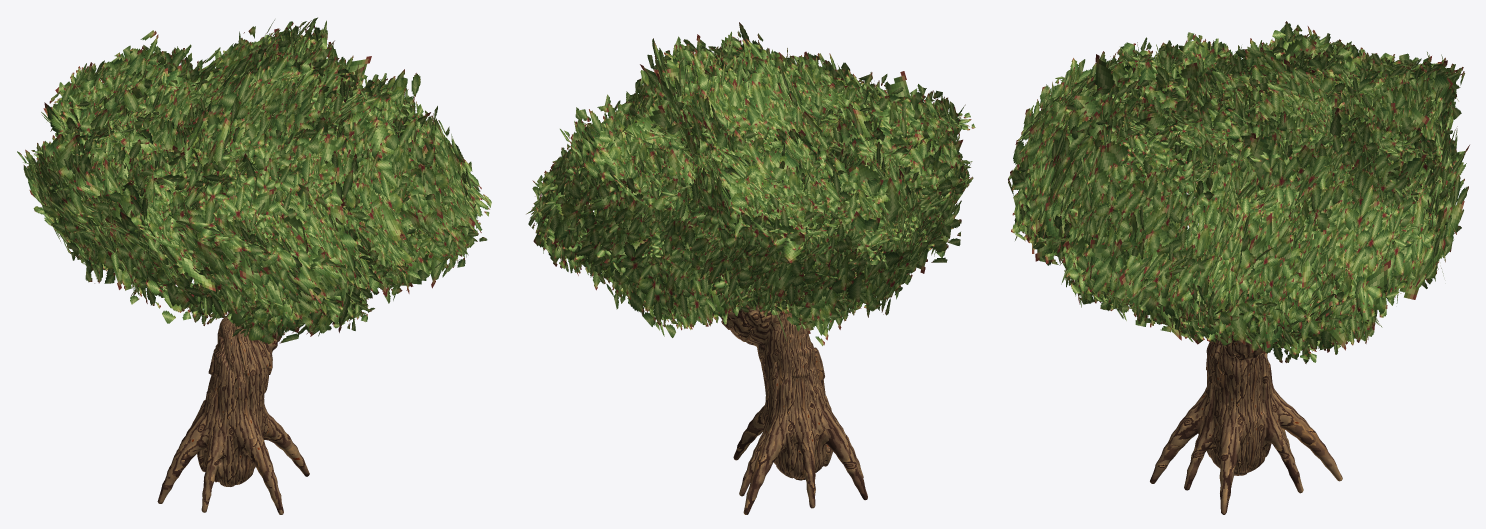
The model's file is macieira_torta_LOD_B.glb.
3 renders of one model, left to right at view 1: azimuth 30°, elevation 25°; view 2: azimuth 150°, elevation 25°; view 3: azimuth 270°, elevation 25°, orthographic. The views are drawn at different scales.
Parts seen in each view (by area): view 1: macieira_inclinada; view 2: macieira_inclinada; view 3: macieira_inclinada.
Boxes of the visible parts, bbox=[...] form: macieira_inclinada: bbox=[17, 17, 491, 514]; macieira_inclinada: bbox=[526, 22, 975, 514]; macieira_inclinada: bbox=[1008, 21, 1469, 514].
Size of the model in its own units: 6.19 by 6.5 by 5.92.
2 materials, 2 textured.
